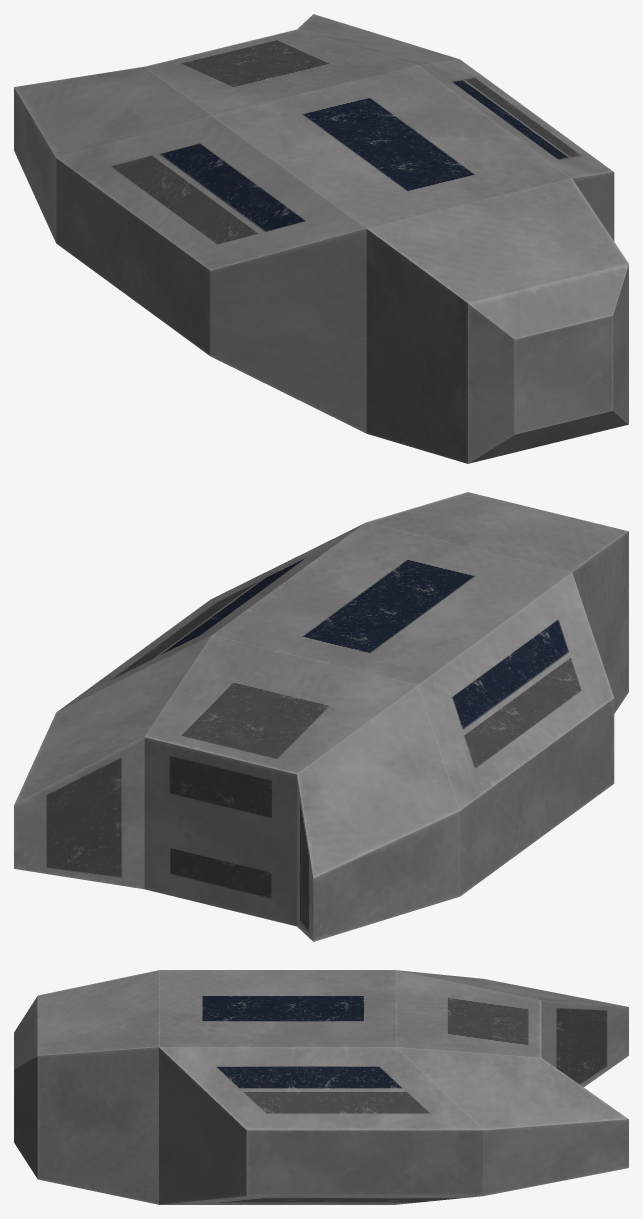
Rendered from mid_m_2.fbx.
The picture shows the model from 3 angles, top to bottom: view 1: azimuth 30°, elevation 25°; view 2: azimuth 150°, elevation 25°; view 3: azimuth 270°, elevation 25°; orthographic projection. The views are drawn at different scales.
Visible parts, largest first — view 1: mid_m_2; view 2: mid_m_2; view 3: mid_m_2.
Boxes of the visible parts, x1,y1,x2,y2 form: mid_m_2: [14, 14, 628, 463]; mid_m_2: [14, 492, 628, 941]; mid_m_2: [14, 970, 628, 1204].
Size of the model in its own units: 32.68 by 15.86 by 56.08.
